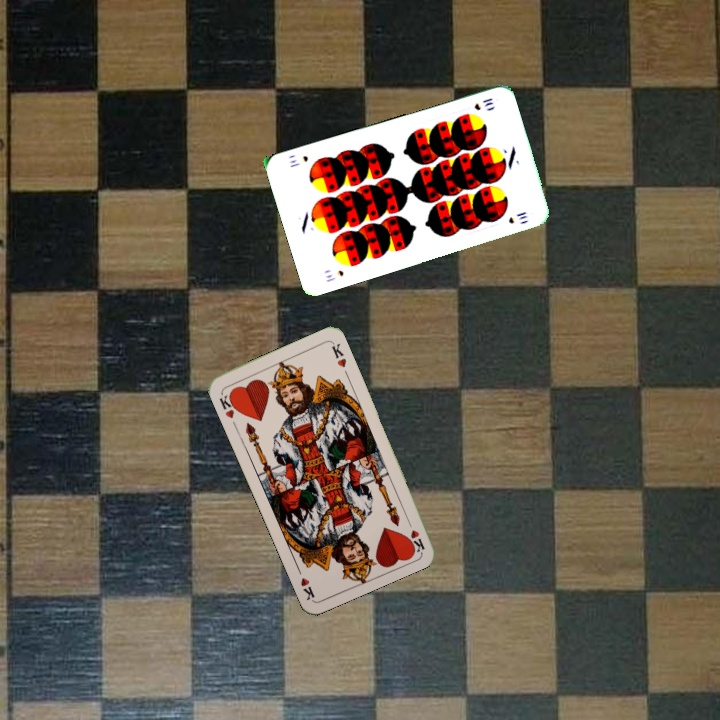HK: (403, 514, 427, 554), (215, 389, 241, 421)
S10: (470, 94, 496, 113), (322, 266, 346, 284)
